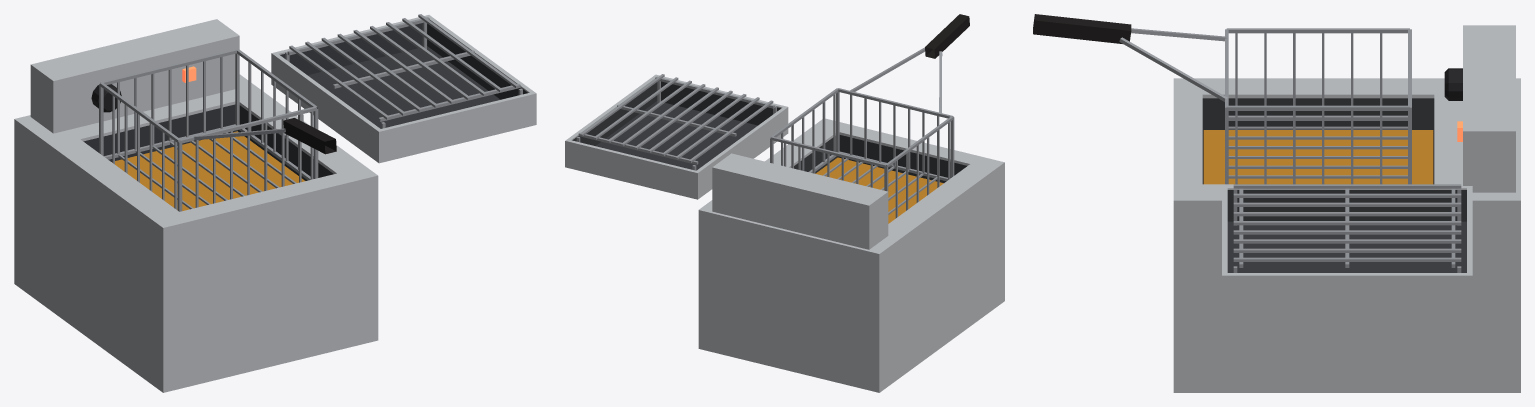
Rendered from fryer.glb.
3 renders of one model, left to right at view 1: azimuth 30°, elevation 25°; view 2: azimuth 150°, elevation 25°; view 3: azimuth 270°, elevation 25°, orthographic. The views are drawn at different scales.
Parts seen in each view (by area): view 1: Fryer, FryerRack, FryerBasket, FryerOil; view 2: Fryer, FryerRack, FryerBasket, FryerOil; view 3: Fryer, FryerRack, FryerBasket, FryerOil.
Part boxes in pixels (bbox=[...]): Fryer: bbox=[14, 19, 378, 392]; FryerRack: bbox=[271, 14, 536, 163]; FryerBasket: bbox=[99, 49, 336, 211]; FryerOil: bbox=[112, 131, 305, 210]; Fryer: bbox=[698, 118, 1004, 392]; FryerRack: bbox=[565, 74, 788, 199]; FryerBasket: bbox=[770, 14, 969, 218]; FryerOil: bbox=[815, 157, 943, 223]; Fryer: bbox=[1173, 25, 1520, 392]; FryerRack: bbox=[1222, 184, 1472, 312]; FryerBasket: bbox=[1033, 14, 1411, 184]; FryerOil: bbox=[1203, 130, 1433, 184].
Size of the model in its own units: 0.55 by 0.3599 by 0.506.
